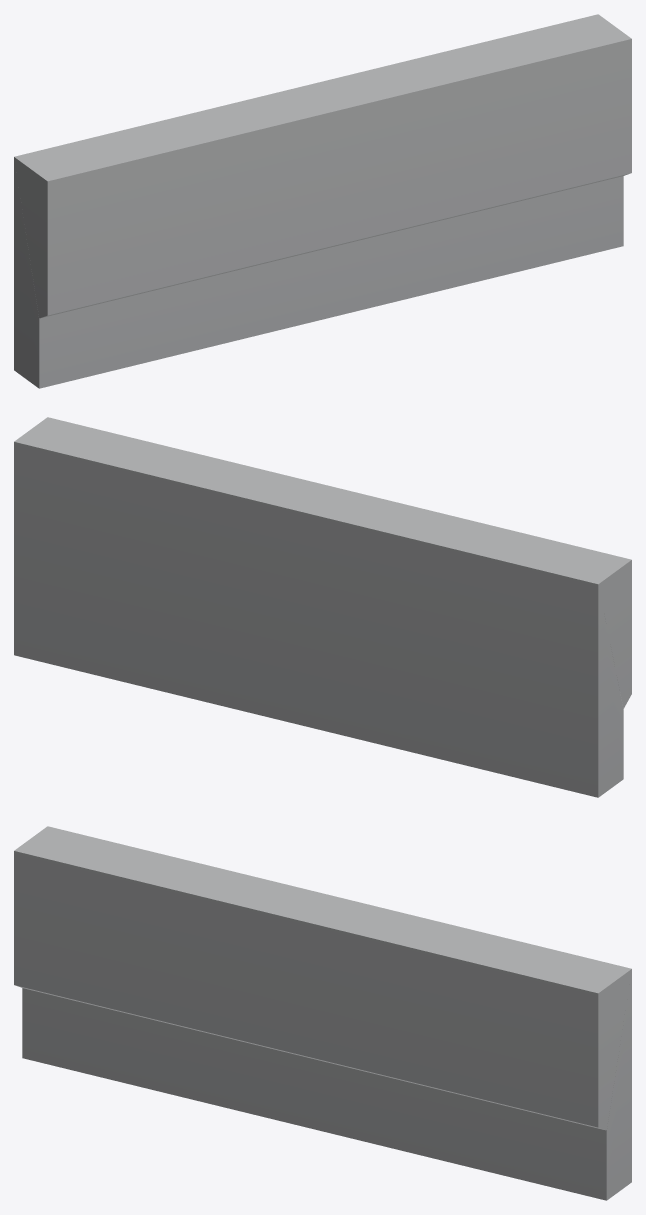
File: Wall_type_A_016.fbx
The picture shows the model from 3 angles, top to bottom: view 1: azimuth 30°, elevation 25°; view 2: azimuth 150°, elevation 25°; view 3: azimuth 330°, elevation 25°; orthographic projection.
Parts seen in each view (by area): view 1: Wall_type_A_016; view 2: Wall_type_A_016; view 3: Wall_type_A_016.
Boxes of the visible parts, bbox=[...] form: Wall_type_A_016: bbox=[14, 14, 631, 388]; Wall_type_A_016: bbox=[14, 417, 631, 797]; Wall_type_A_016: bbox=[14, 826, 631, 1200].
Bounding box in the file's own units: 200 × 20 × 70.
